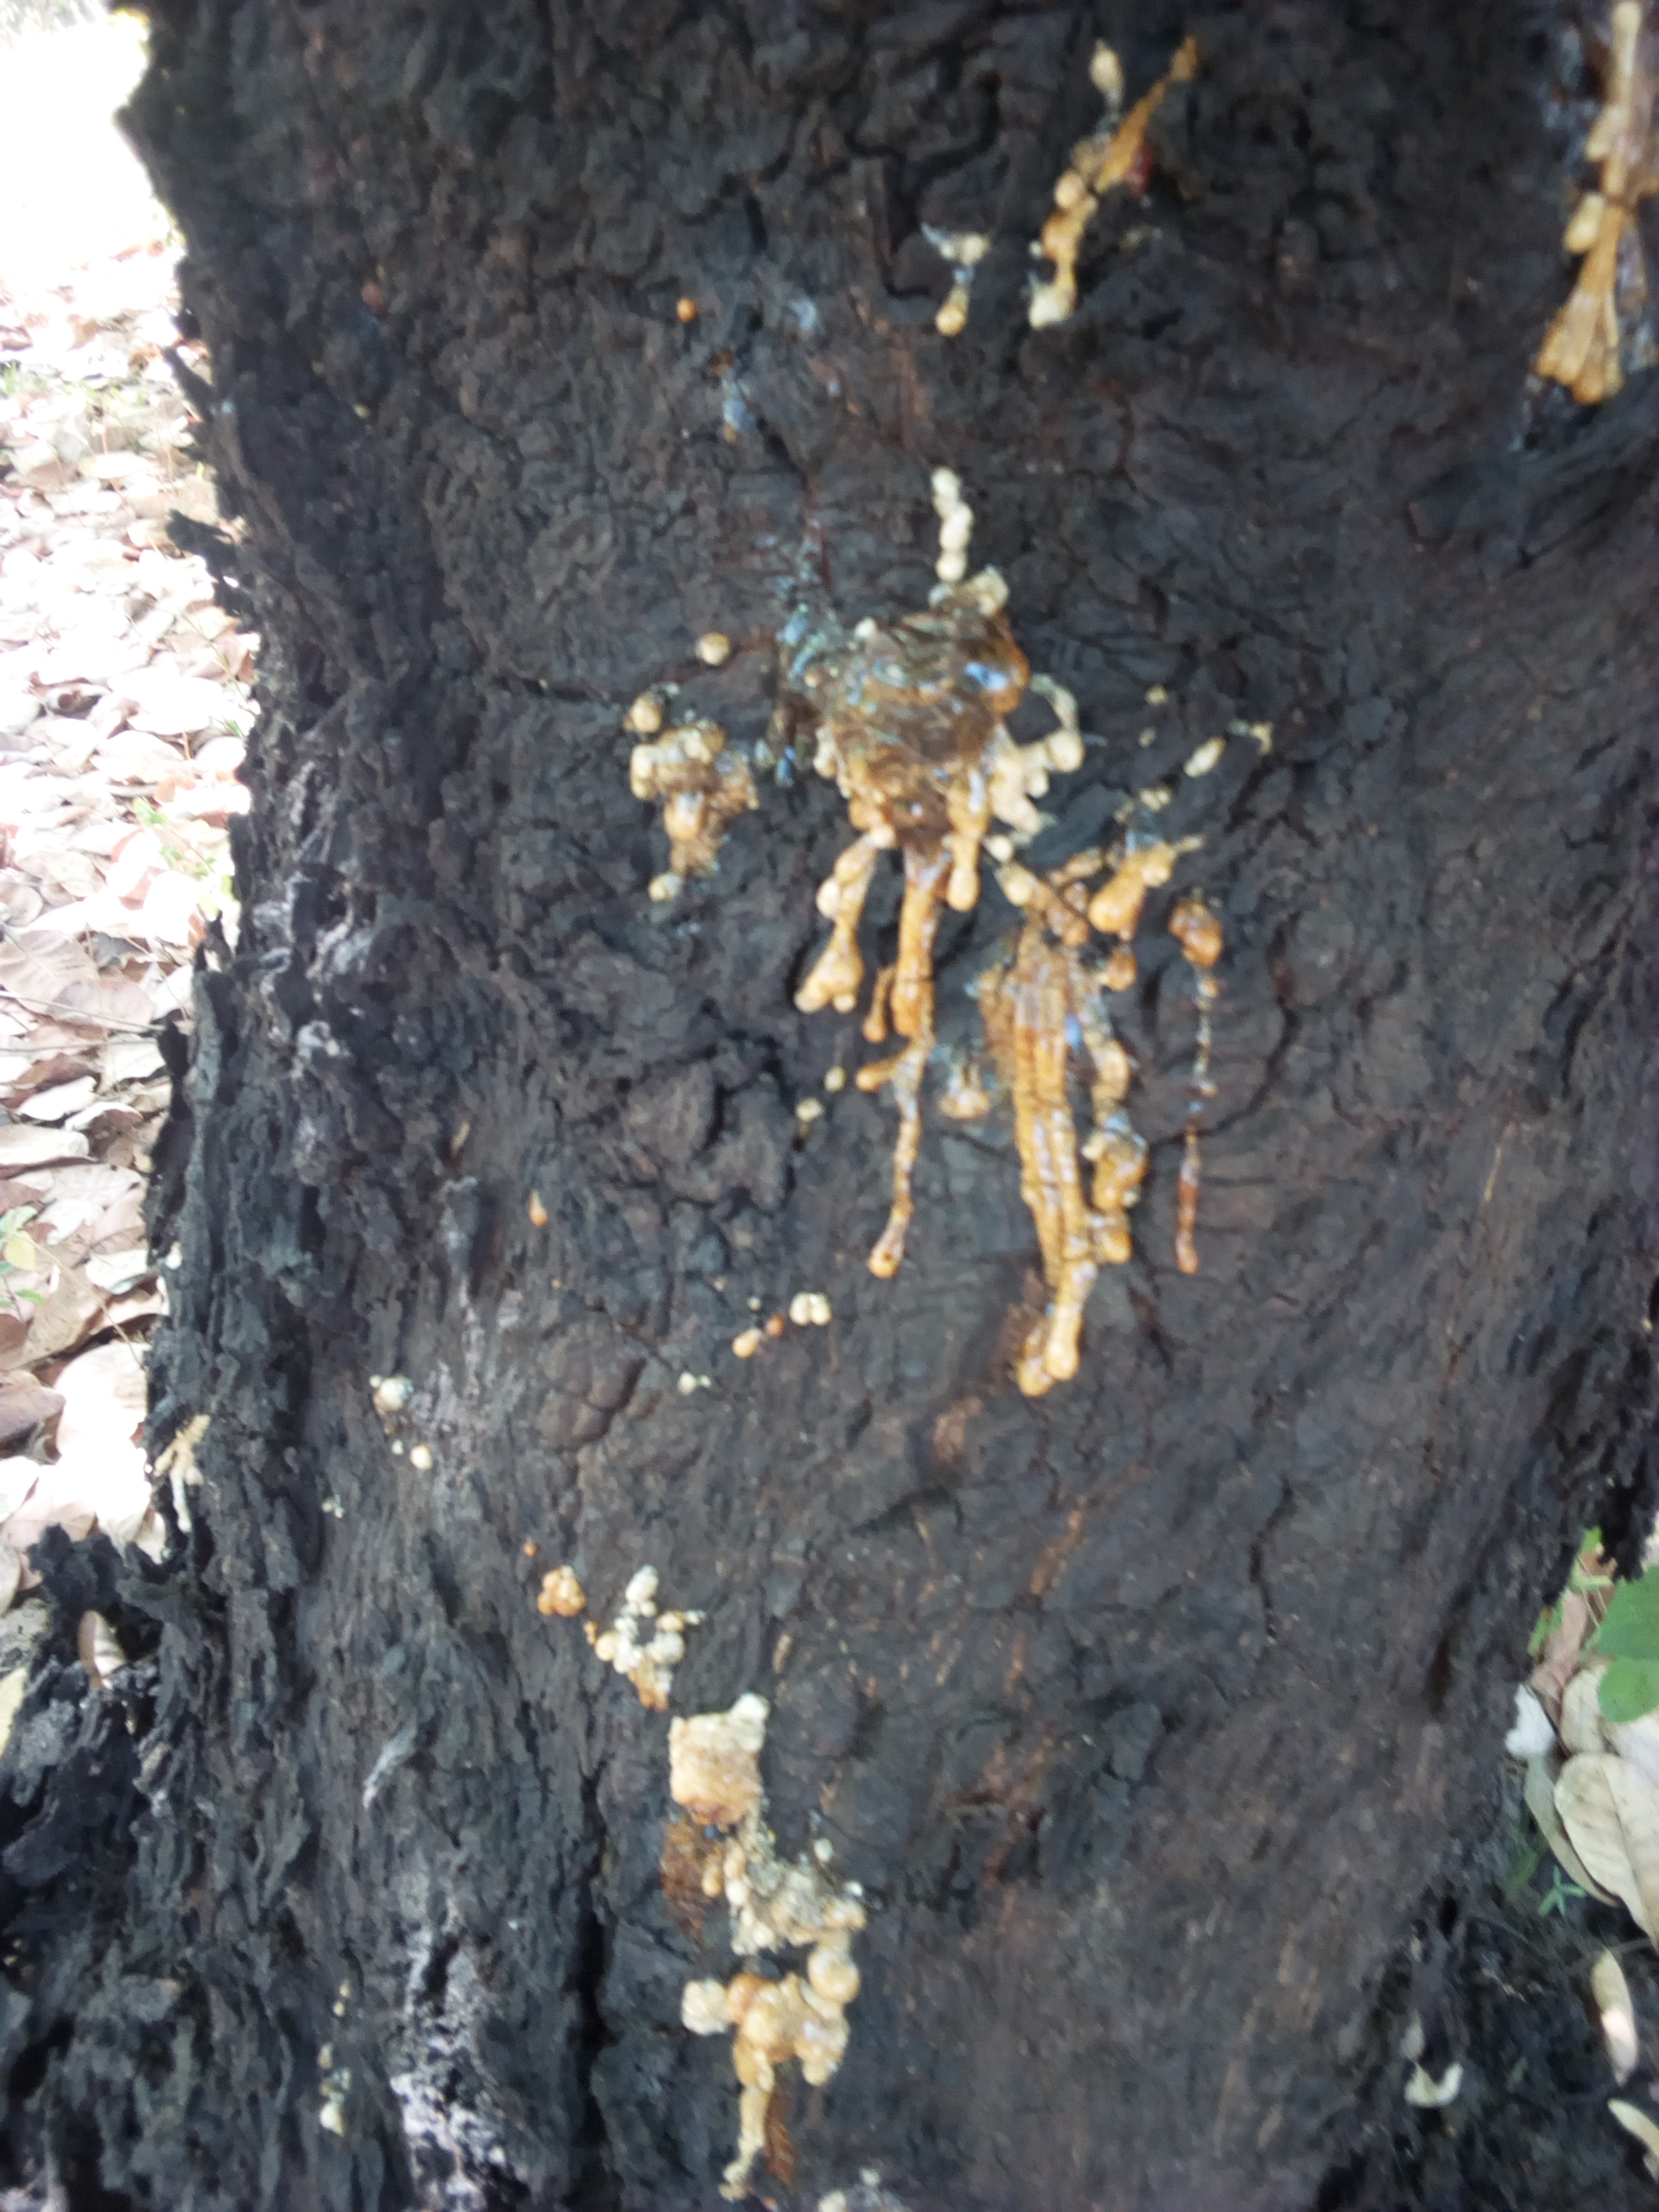Gommose: (765, 540, 1229, 1386)
